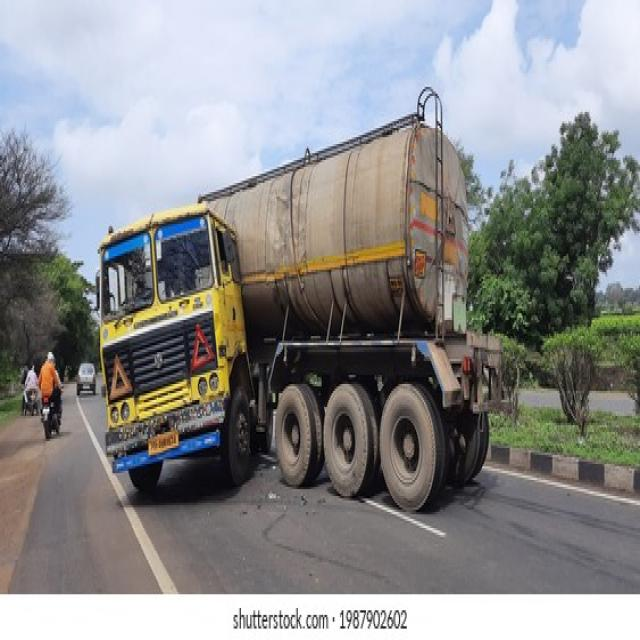accident: (100, 88, 500, 509)
